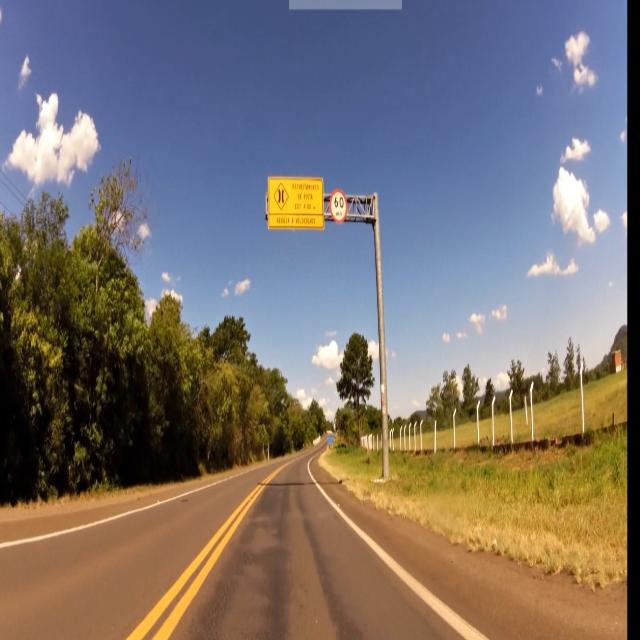A-22: (273, 181, 288, 212)
